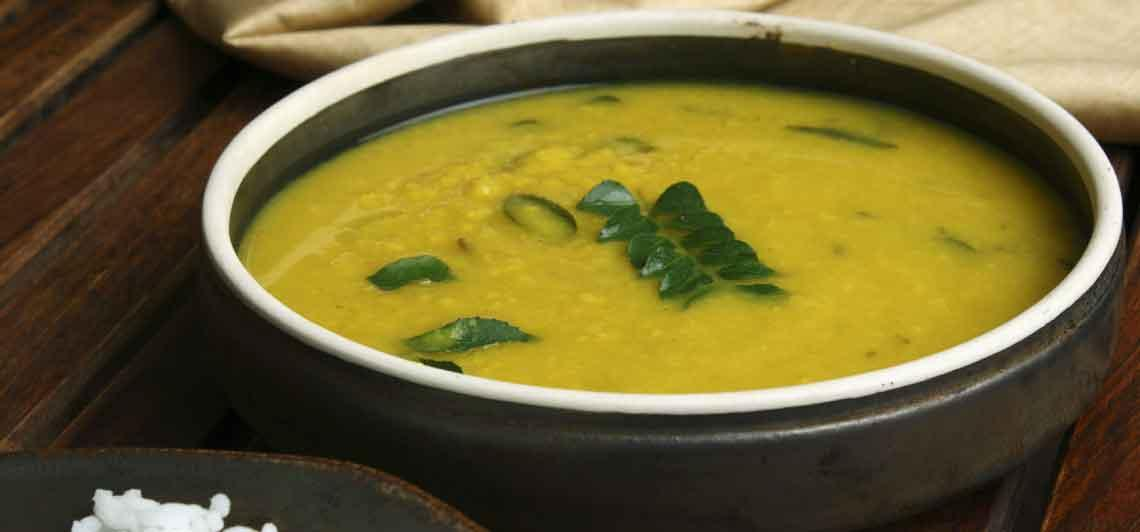varan: (290, 65, 1061, 351)
